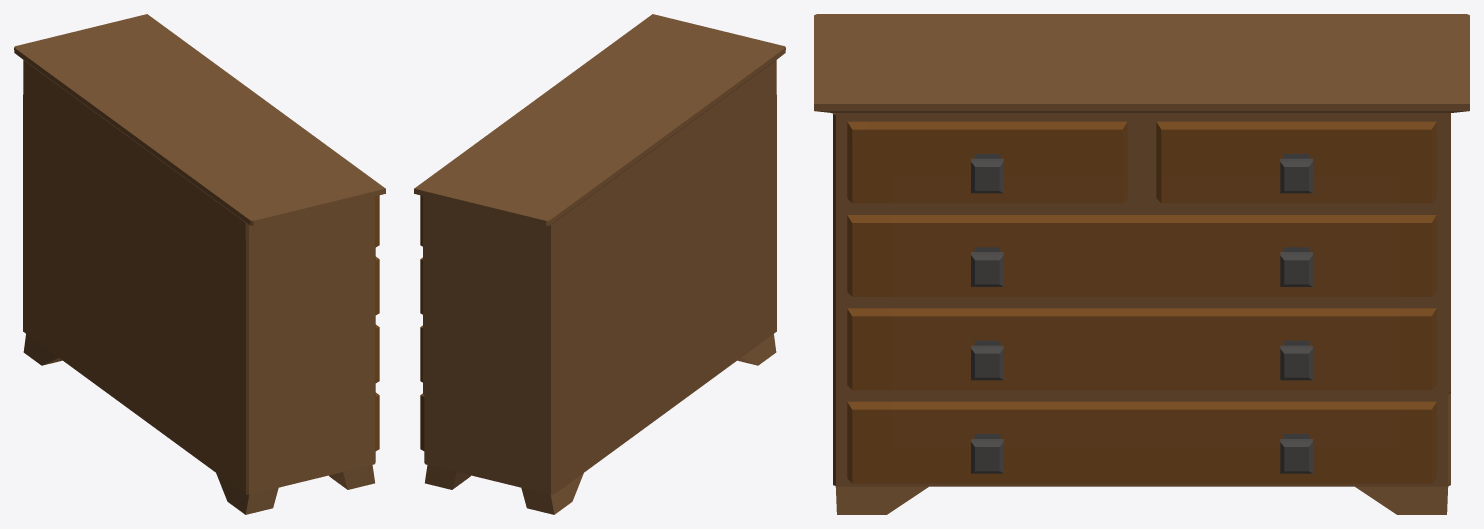
The model's file is dresser.fbx.
The picture shows the model from 3 angles, left to right: view 1: azimuth 30°, elevation 25°; view 2: azimuth 150°, elevation 25°; view 3: azimuth 270°, elevation 25°; orthographic projection. The views are drawn at different scales.
Visible parts, largest first — view 1: pCube1; view 2: pCube1; view 3: pCube1.
Part boxes in pixels (x1,y1,x2,y2): pCube1: (14, 14, 385, 514); pCube1: (414, 14, 785, 514); pCube1: (814, 14, 1469, 514).
Size of the model in its own units: 1.24 by 2.21 by 3.18.
1 material, 1 textured.
